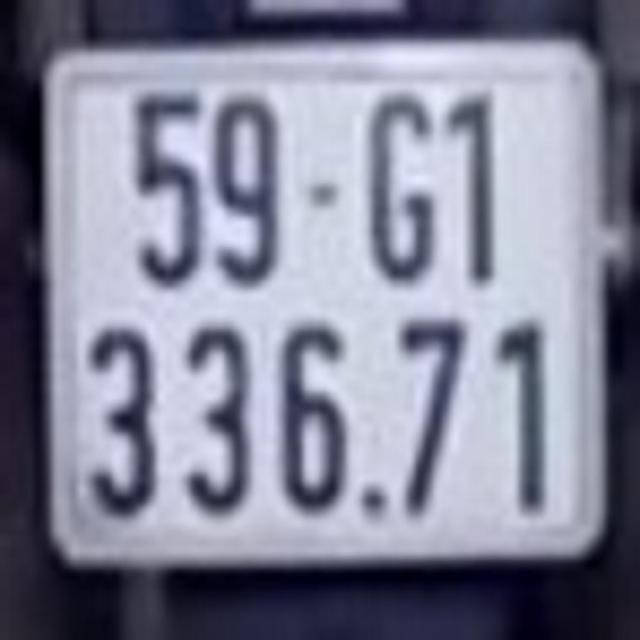1: (488, 309, 558, 516), (444, 80, 504, 292)
3: (176, 314, 260, 517), (81, 316, 162, 520)
5: (126, 84, 207, 284)
6: (270, 312, 352, 520)
7: (389, 310, 470, 516)
9: (210, 90, 286, 290)
G: (356, 82, 440, 287)
